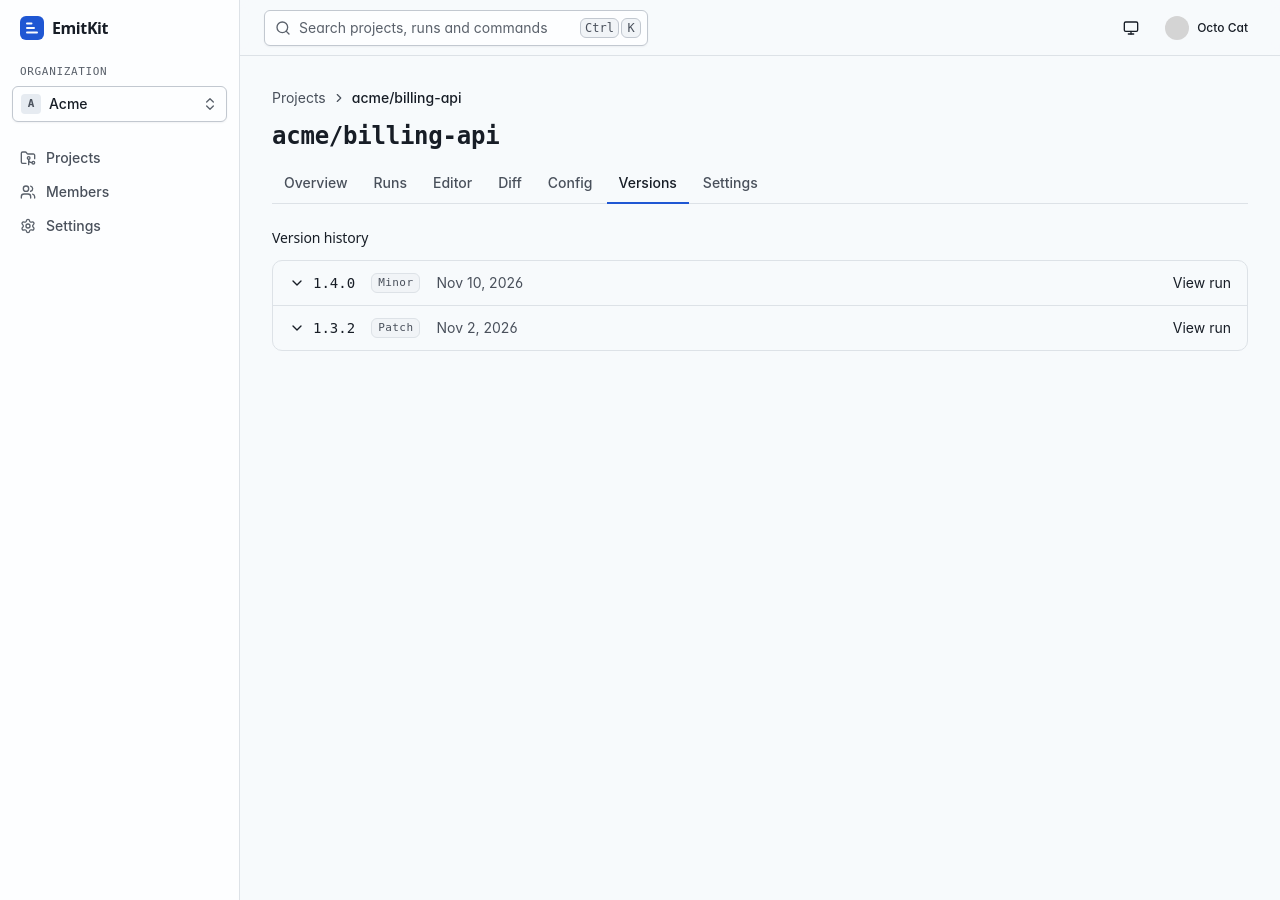
versions row expands changelog
The width and height of the screenshot is (1280, 900).
Expected: the text "Added the invoice endpoints." is not shown
Click the button "1.4.0": (322, 283) [289,273,355,293]
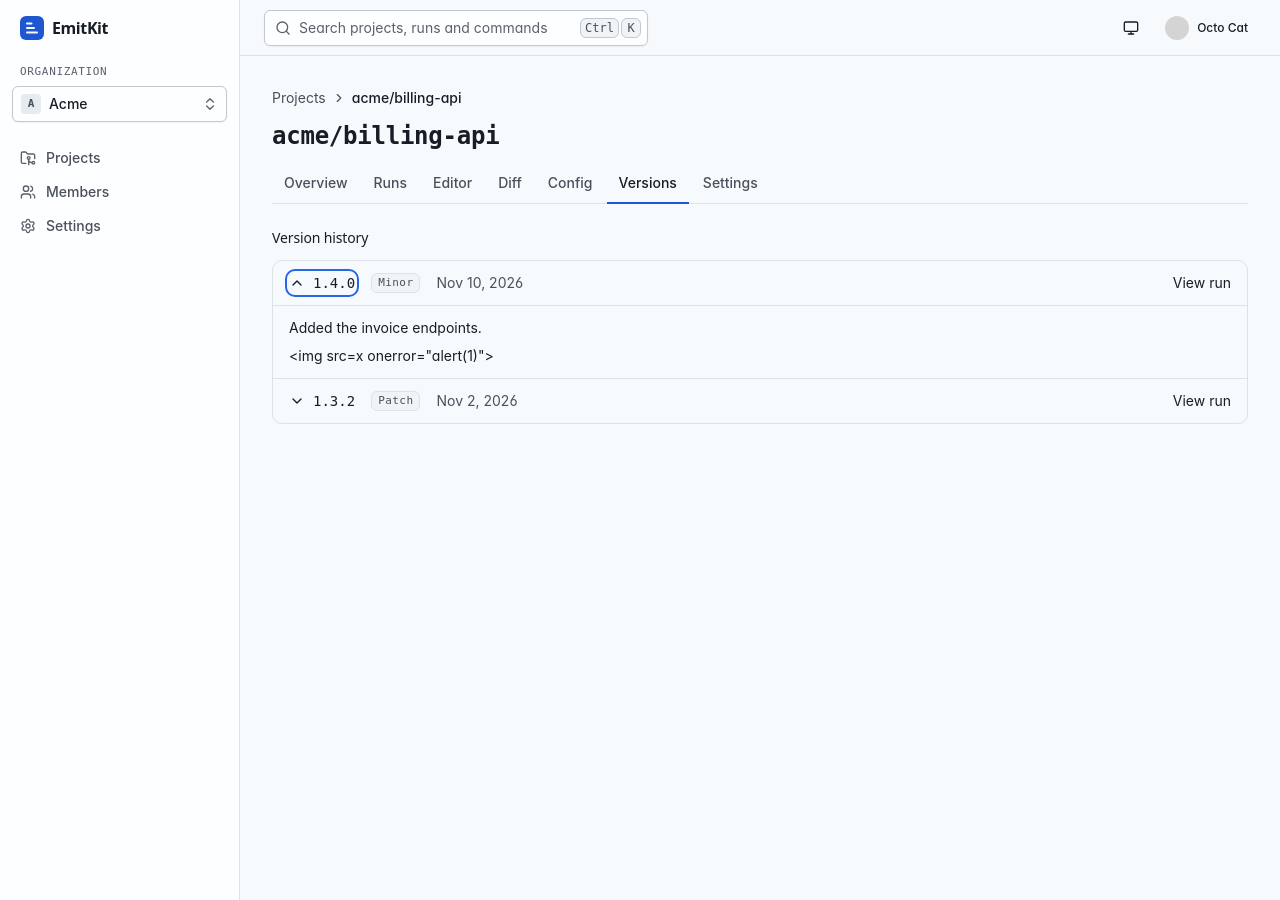
Expected: the button "1.4.0" is expanded, [289,273,355,293]
Expected: the text "Added the invoice endpoints." is shown, [289,319,482,336]
Expected: the text "<img src=x onerror=\"alert(1)\">" is shown, [289,347,494,364]
